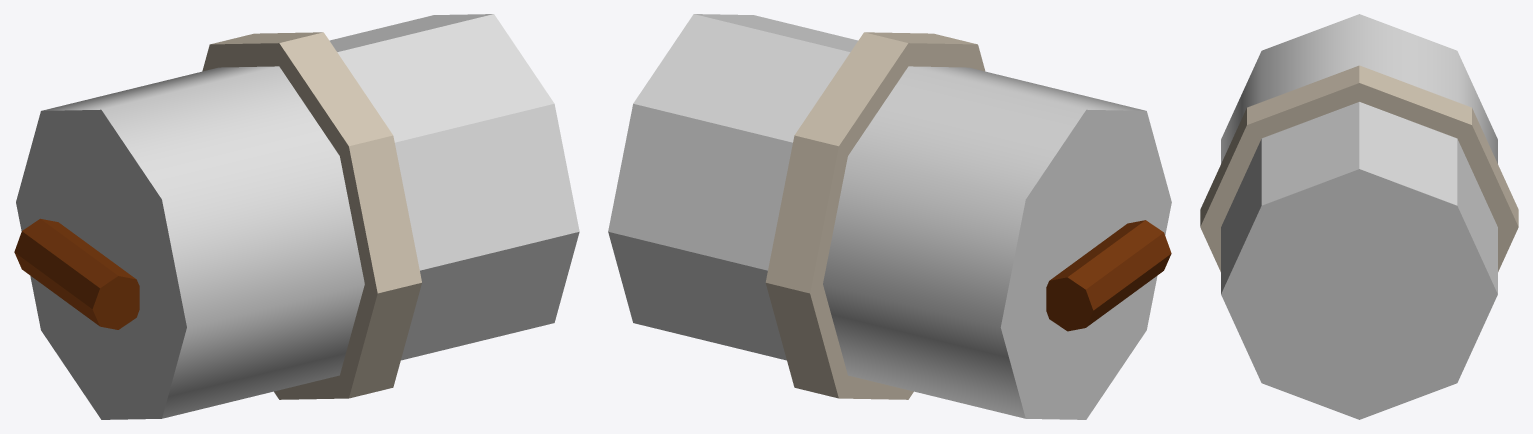
The model's file is Canon_Poignée_Louis.FBX.
3 views of the same model, side by side, from view 1: azimuth 30°, elevation 25°; view 2: azimuth 150°, elevation 25°; view 3: azimuth 270°, elevation 25° (orthographic). The views are drawn at different scales.
Parts seen in each view (by area): view 1: Cylinder112; view 2: Cylinder112; view 3: Cylinder112.
Boxes of the visible parts, x1=… form: Cylinder112: x1=14, y1=14, x2=579, y2=419; Cylinder112: x1=608, y1=14, x2=1171, y2=419; Cylinder112: x1=1200, y1=14, x2=1518, y2=419.
Size of the model in its own units: 297 by 230 by 230.
